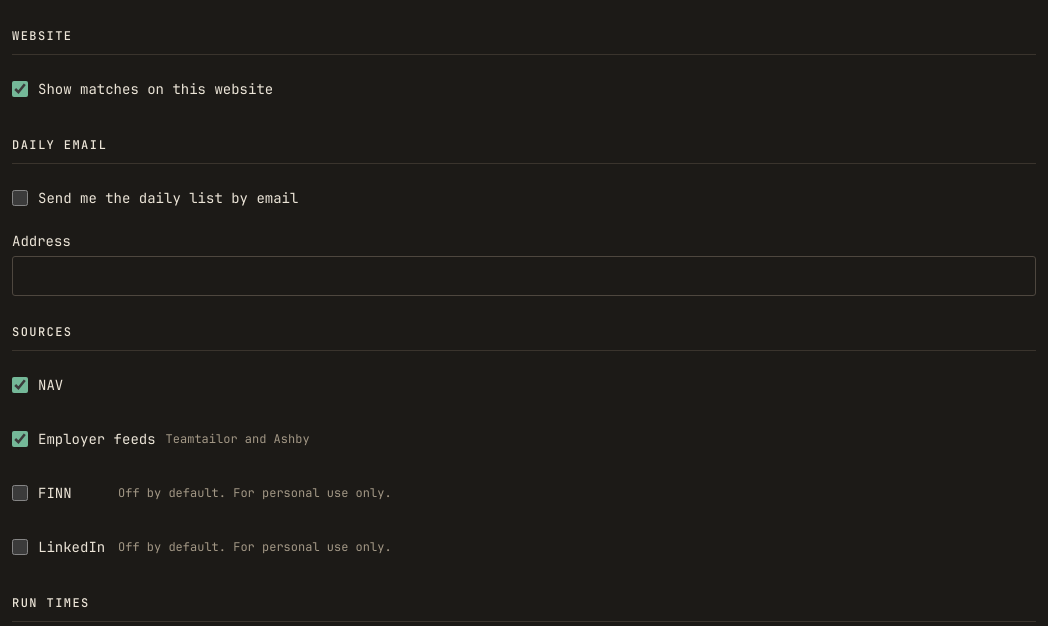
it: DeliverySettings › should ask for an address before turning email on
This screenshot has width=1048, height=626.
Click the checkbox labelled "Send me the daily list by email": [20, 198] box [12,190,28,206]
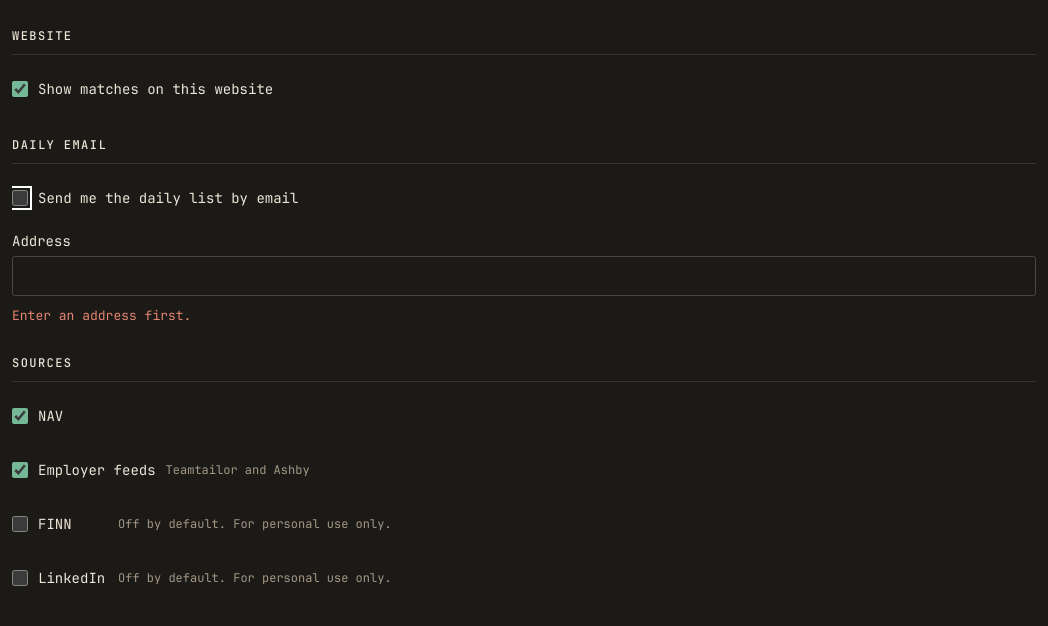
Expected: the message reads "Enter an address first.", [12,307,191,324]
